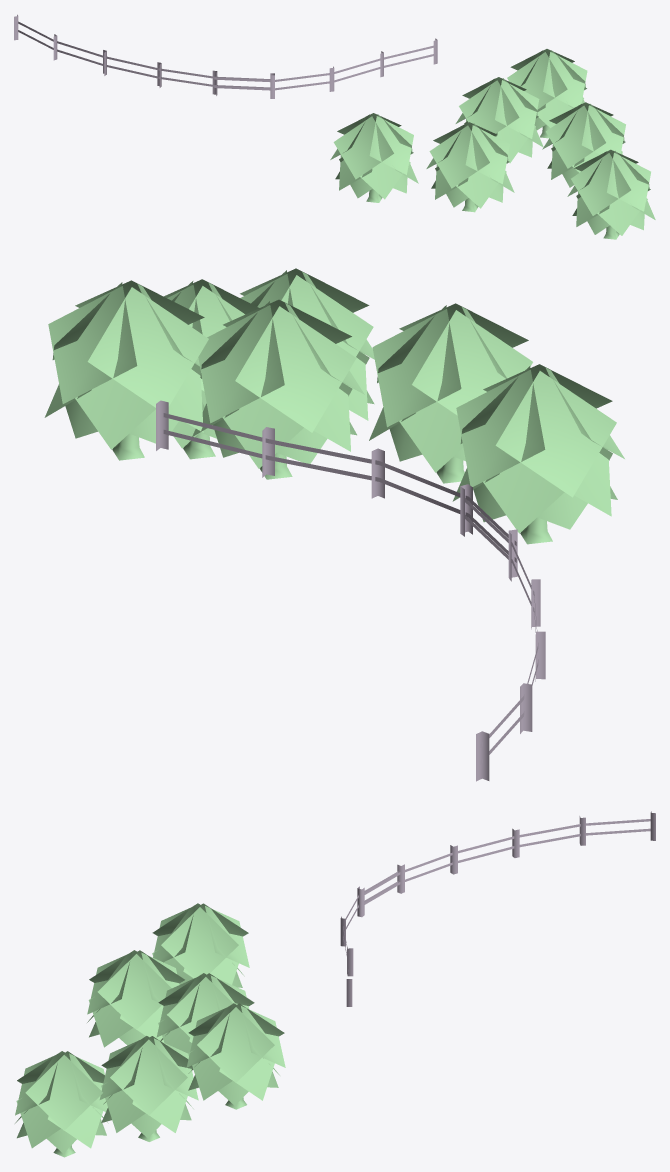
3 views of the same model, one above another, from view 1: azimuth 30°, elevation 25°; view 2: azimuth 150°, elevation 25°; view 3: azimuth 270°, elevation 25° (orthographic). The views are drawn at different scales.
Visible parts, largest first — view 1: 2-1_skeleton; view 2: 2-1_skeleton; view 3: 2-1_skeleton.
Boxes of the visible parts, x1,y1,x2,y2 form: 2-1_skeleton: (14,14,655,239); 2-1_skeleton: (44,268,624,781); 2-1_skeleton: (15,811,655,1157).
Bounding box in the file's own units: 1950 × 612 × 2325.
